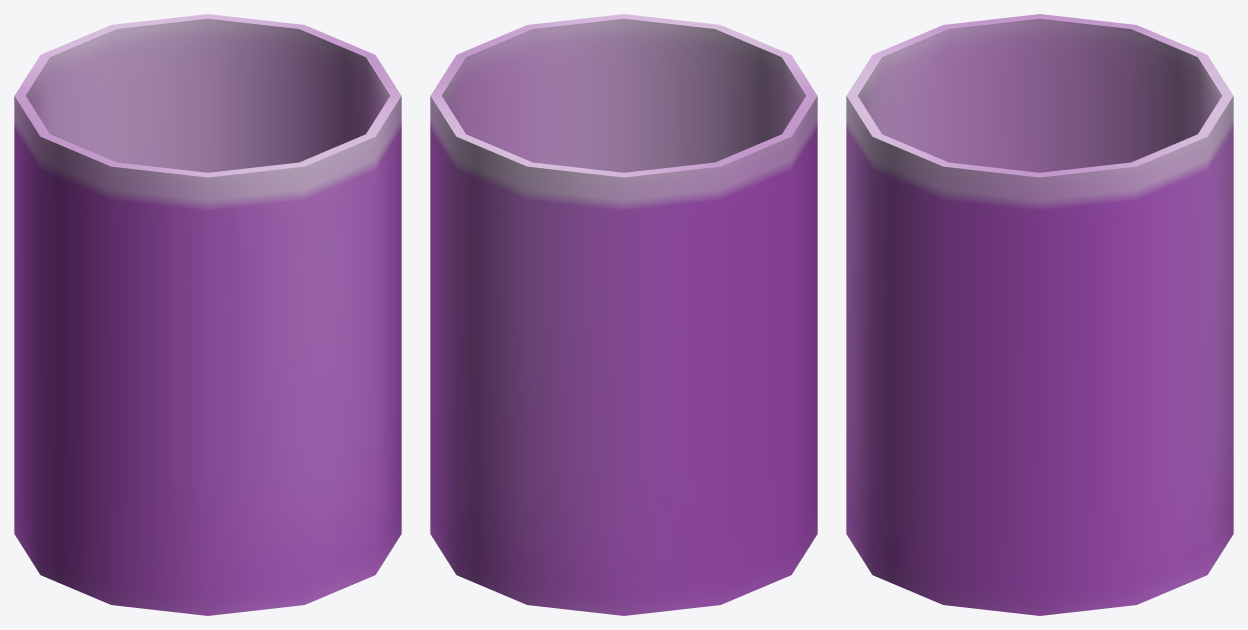
File: jsf_Vessel_02.fbx
The picture shows the model from 3 angles, left to right: view 1: azimuth 30°, elevation 25°; view 2: azimuth 150°, elevation 25°; view 3: azimuth 270°, elevation 25°; orthographic projection.
Visible parts, largest first — view 1: jsf_Vessel_02; view 2: jsf_Vessel_02; view 3: jsf_Vessel_02.
Part boxes in pixels (x1,y1,x2,y2): jsf_Vessel_02: (14,14,401,615); jsf_Vessel_02: (430,14,817,615); jsf_Vessel_02: (846,14,1233,615).
Size of the model in its own units: 10 by 12.5 by 10.
